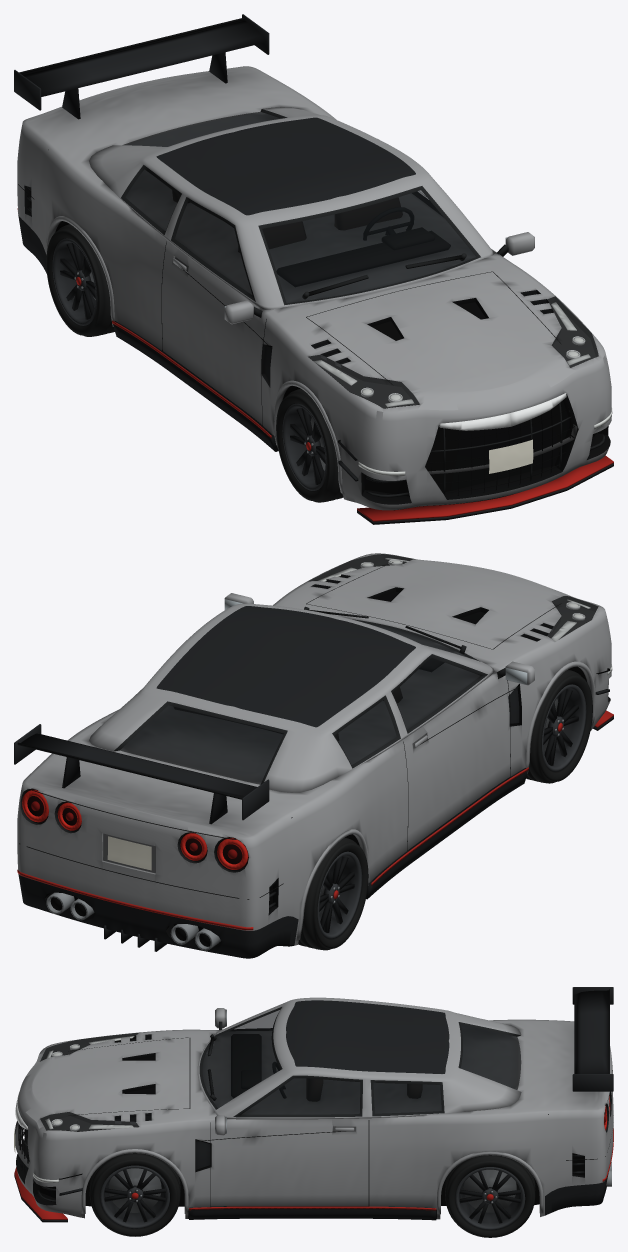
File: nissan-gt-r-nismo.glb
The picture shows the model from 3 angles, top to bottom: view 1: azimuth 30°, elevation 25°; view 2: azimuth 150°, elevation 25°; view 3: azimuth 270°, elevation 25°; orthographic projection. The views are drawn at different scales.
Parts seen in each view (by area): view 1: Coachwork, Body, Wheel_RR, Wheel_FR, Headlights, Plate; view 2: Coachwork, Body, Wheel_RR, Wheel_FR, Taillights, Plate, Headlights; view 3: Coachwork, Body, Wheel_FL, Wheel_RL, Headlights.
Part boxes in pixels (<box>): Coachwork: <box>17,66,611,510</box>; Body: <box>14,14,613,524</box>; Wheel_RR: <box>46,224,114,336</box>; Wheel_FR: <box>276,388,343,502</box>; Headlights: <box>313,302,612,475</box>; Plate: <box>489,439,533,473</box>; Coachwork: <box>17,553,611,958</box>; Body: <box>14,554,613,951</box>; Wheel_RR: <box>298,837,368,950</box>; Wheel_FR: <box>526,669,592,783</box>; Taillights: <box>22,790,248,869</box>; Plate: <box>107,836,151,870</box>; Headlights: <box>318,558,612,674</box>; Coachwork: <box>16,1019,613,1219</box>; Body: <box>14,987,613,1222</box>; Wheel_FL: <box>89,1153,180,1236</box>; Wheel_RL: <box>445,1155,535,1237</box>; Headlights: <box>33,1036,134,1182</box>.
Size of the model in its own units: 2.17 by 1.37 by 4.7.
